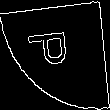P_E: (29, 34, 81, 76)
